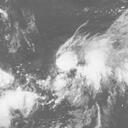cyclone: (56, 34, 106, 89)
